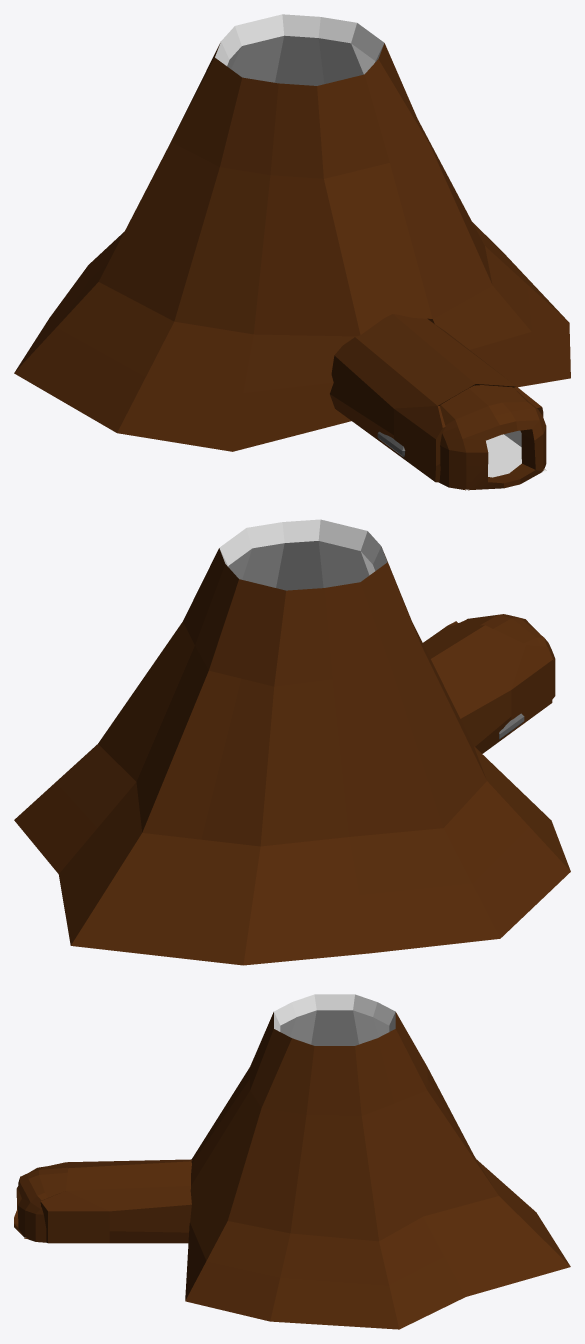
The model's file is IlhaVulcao 1.fbx.
3 renders of one model, top to bottom at view 1: azimuth 30°, elevation 25°; view 2: azimuth 150°, elevation 25°; view 3: azimuth 270°, elevation 25°, orthographic. The views are drawn at different scales.
Visible parts, largest first — view 1: Vulcao; view 2: Vulcao; view 3: Vulcao.
Boxes of the visible parts, box(x1,y1,x2,y2) form: Vulcao: box(14, 14, 570, 490); Vulcao: box(14, 519, 570, 965); Vulcao: box(14, 994, 570, 1329).
Size of the model in its own units: 459 by 265 by 609.
